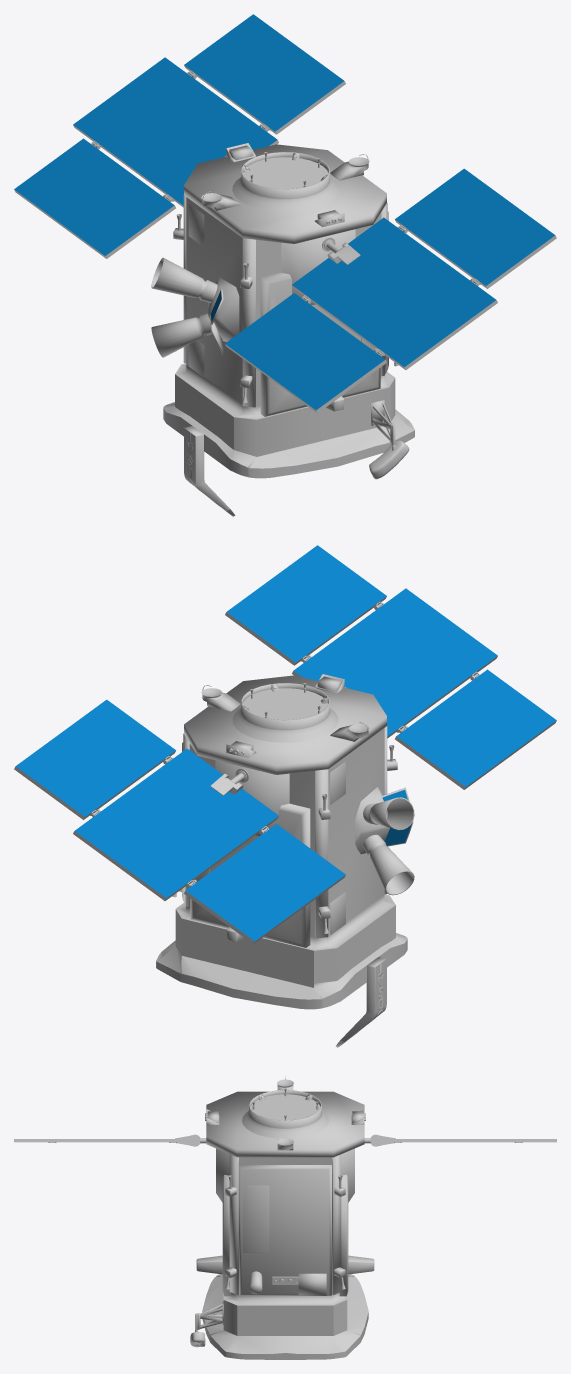
The model's file is CloudSat.obj.
3 renders of one model, top to bottom at view 1: azimuth 30°, elevation 25°; view 2: azimuth 150°, elevation 25°; view 3: azimuth 270°, elevation 25°, orthographic. The views are drawn at different scales.
Visible parts, largest first — view 1: shiny_panel_Cube.008, krinkle_Cylinder.008, foil_silver.001_Cube.001, tex_01_Cube.002, foil_gold_Cube.003; view 2: shiny_panel_Cube.008, krinkle_Cylinder.008, tex_01_Cube.002, foil_silver.001_Cube.001, foil_gold_Cube.003; view 3: krinkle_Cylinder.008, tex_01_Cube.002, foil_silver.001_Cube.001, foil_gold_Cube.003, foil_silver.003_Cylinder.
Part boxes in pixels (x1,y1,x2,y2): shiny_panel_Cube.008: [14, 14, 555, 410]; krinkle_Cylinder.008: [151, 143, 409, 516]; foil_silver.001_Cube.001: [163, 145, 414, 477]; tex_01_Cube.002: [14, 65, 556, 449]; foil_gold_Cube.003: [163, 378, 414, 506]; shiny_panel_Cube.008: [15, 545, 556, 941]; krinkle_Cylinder.008: [176, 674, 414, 1047]; tex_01_Cube.002: [14, 596, 556, 987]; foil_silver.001_Cube.001: [156, 676, 407, 1008]; foil_gold_Cube.003: [156, 934, 407, 1037]; krinkle_Cylinder.008: [190, 1085, 374, 1347]; tex_01_Cube.002: [14, 1088, 556, 1346]; foil_silver.001_Cube.001: [202, 1111, 368, 1359]; foil_gold_Cube.003: [202, 1275, 368, 1359]; foil_silver.003_Cylinder: [195, 1303, 222, 1331].
Size of the model in its own units: 2.21 by 2.95 by 5.08.
